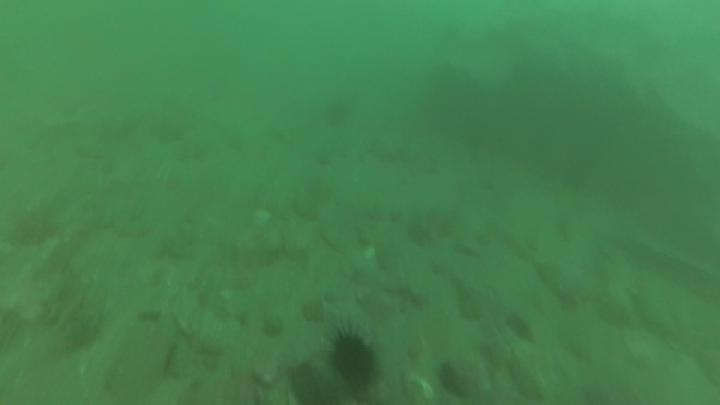echinus: (328, 326, 379, 397), (321, 99, 356, 132)
